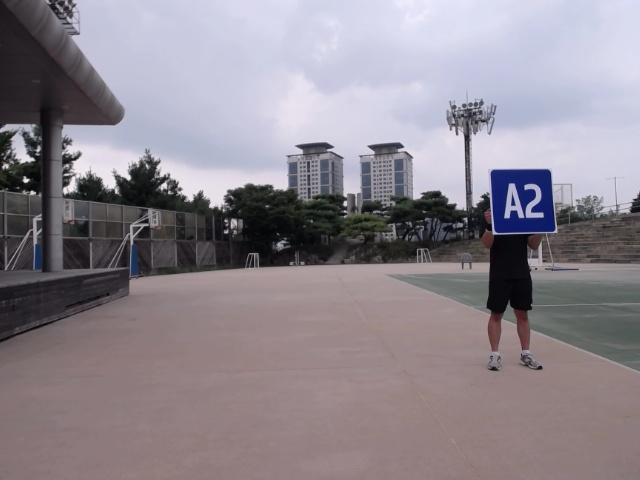delivery_a2: (491, 169, 556, 234)
